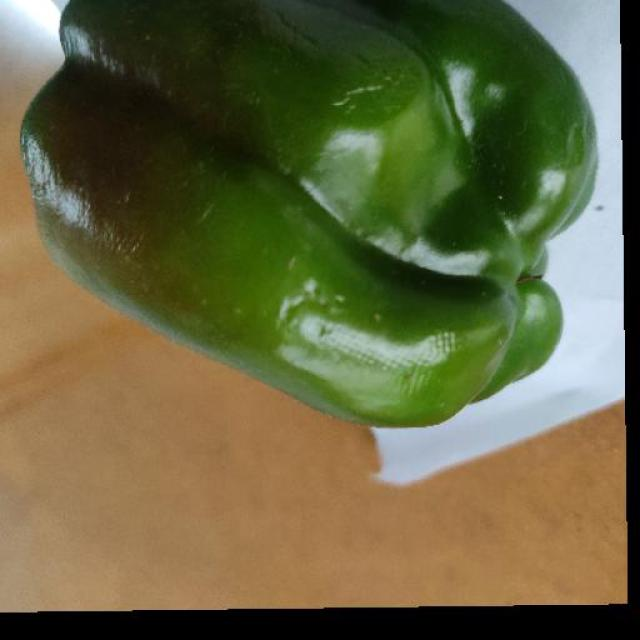Stale_Capsicum: (24, 0, 592, 475)
